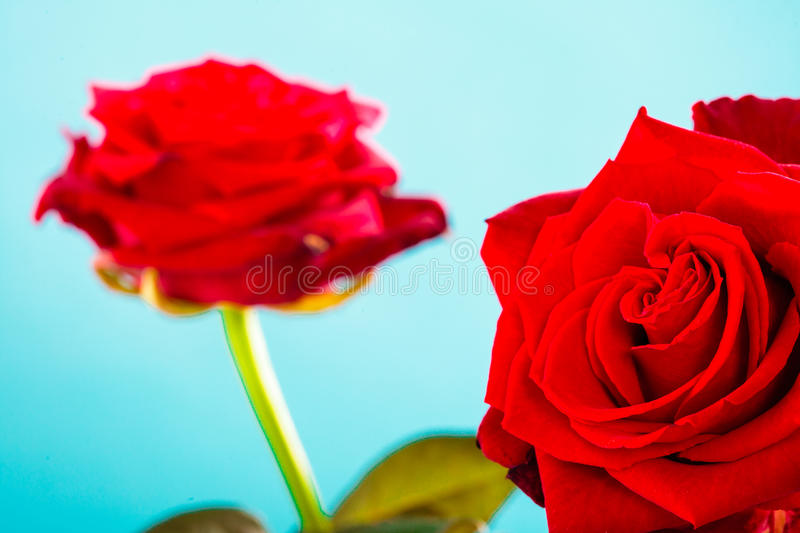RedRose: (471, 88, 800, 533), (34, 48, 434, 315)
